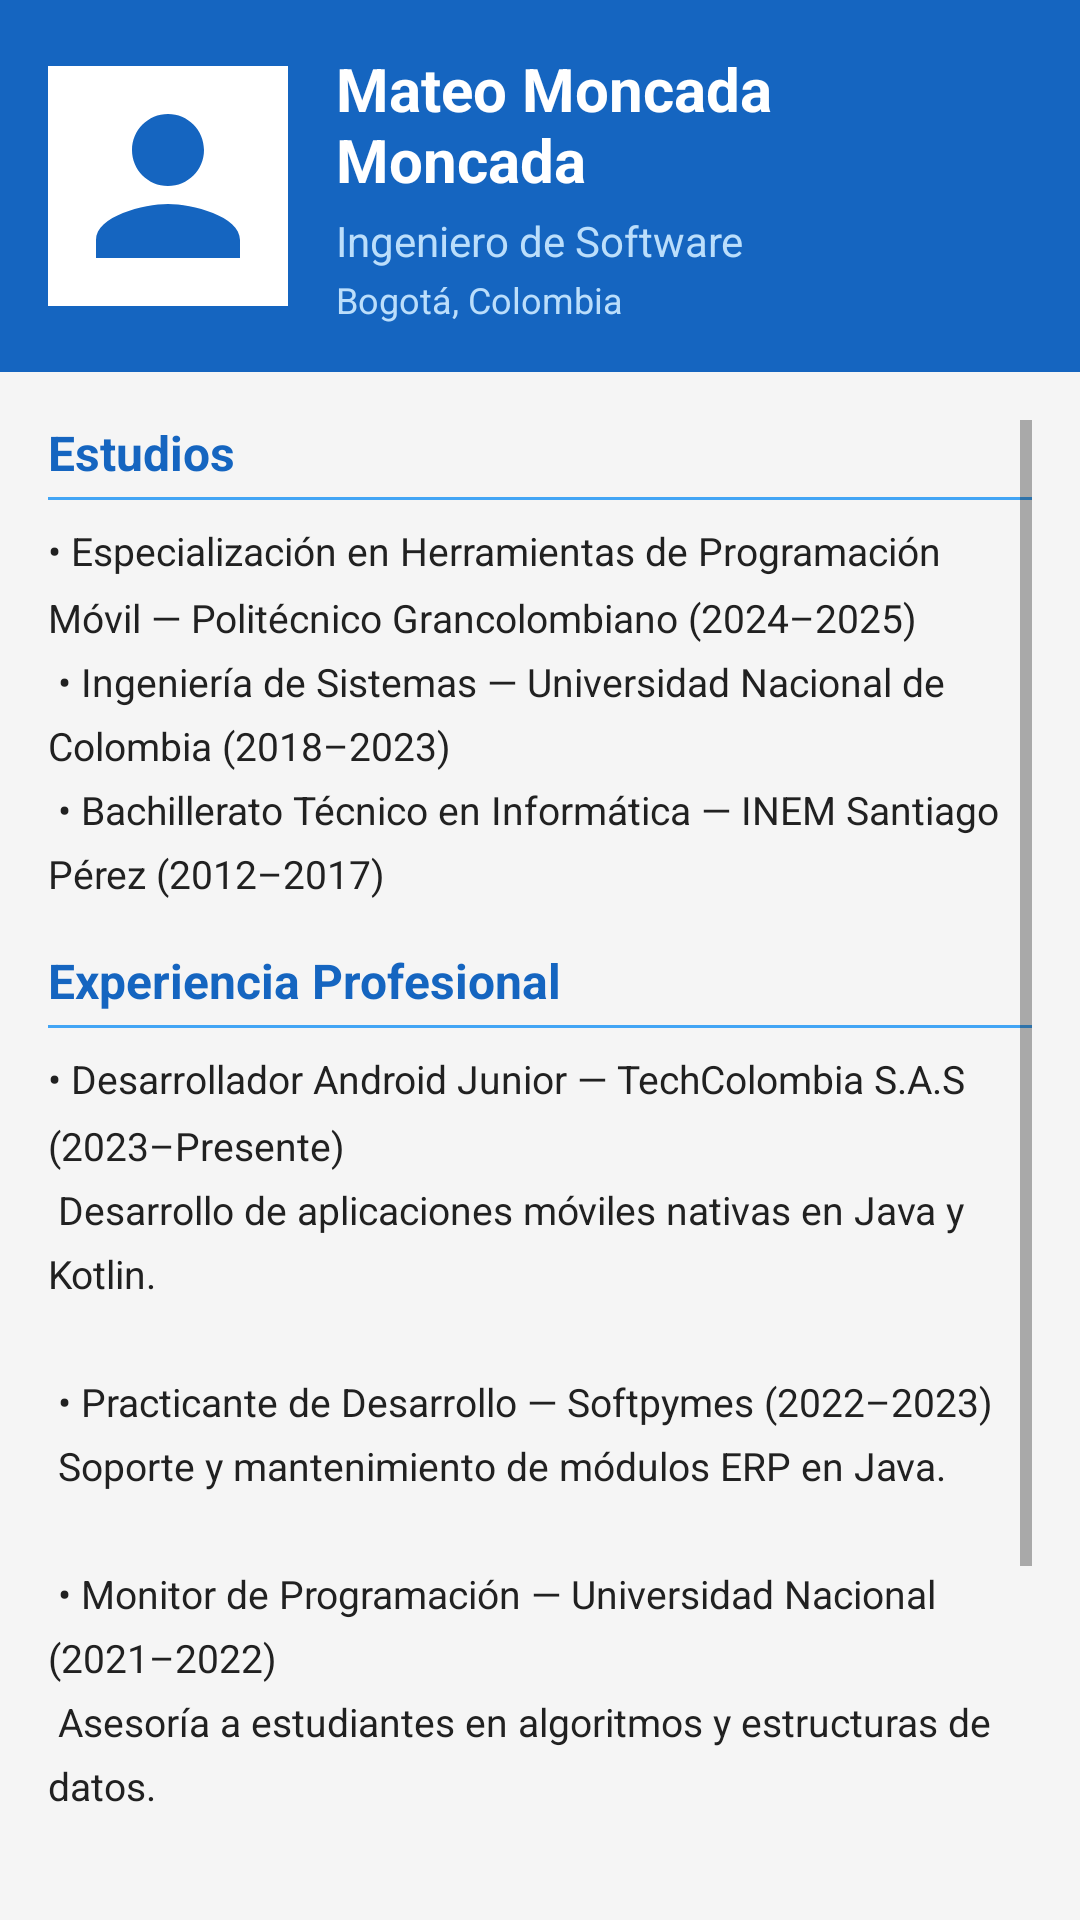

Named icons in this screenshot (1080px x 1920px) and their centers, (x=x, y=y):
Foto de perfil: (x=168, y=186)
